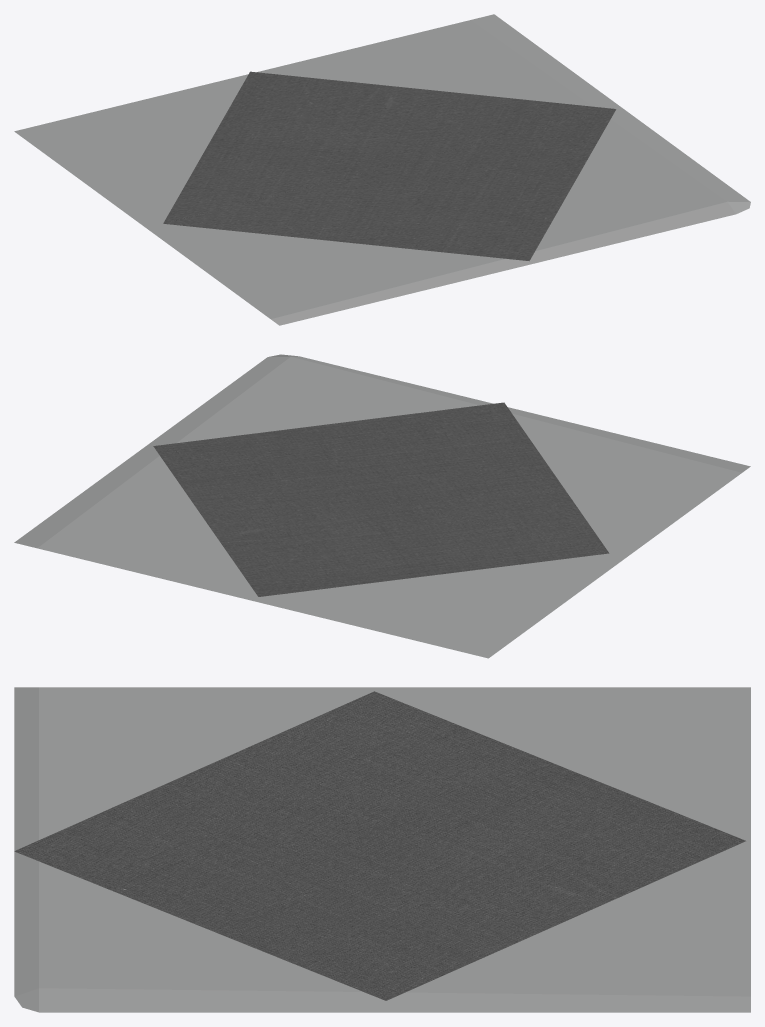
The picture shows the model from 3 angles, top to bottom: view 1: azimuth 30°, elevation 25°; view 2: azimuth 150°, elevation 25°; view 3: azimuth 270°, elevation 25°; orthographic projection. The views are drawn at different scales.
Parts seen in each view (by area): view 1: Plane, Plane.001; view 2: Plane, Plane.001; view 3: Plane, Plane.001.
Part boxes in pixels (x1=…): Plane: x1=14, y1=14, x2=750, y2=325; Plane.001: x1=163, y1=71, x2=616, y2=261; Plane: x1=14, y1=354, x2=750, y2=658; Plane.001: x1=153, y1=402, x2=609, y2=596; Plane: x1=14, y1=687, x2=750, y2=1012; Plane.001: x1=14, y1=691, x2=745, y2=1000.
Bounding box in the file's own units: 11.14 × 0.1333 × 10.67.
Materials: 2 (1 with a texture image).
